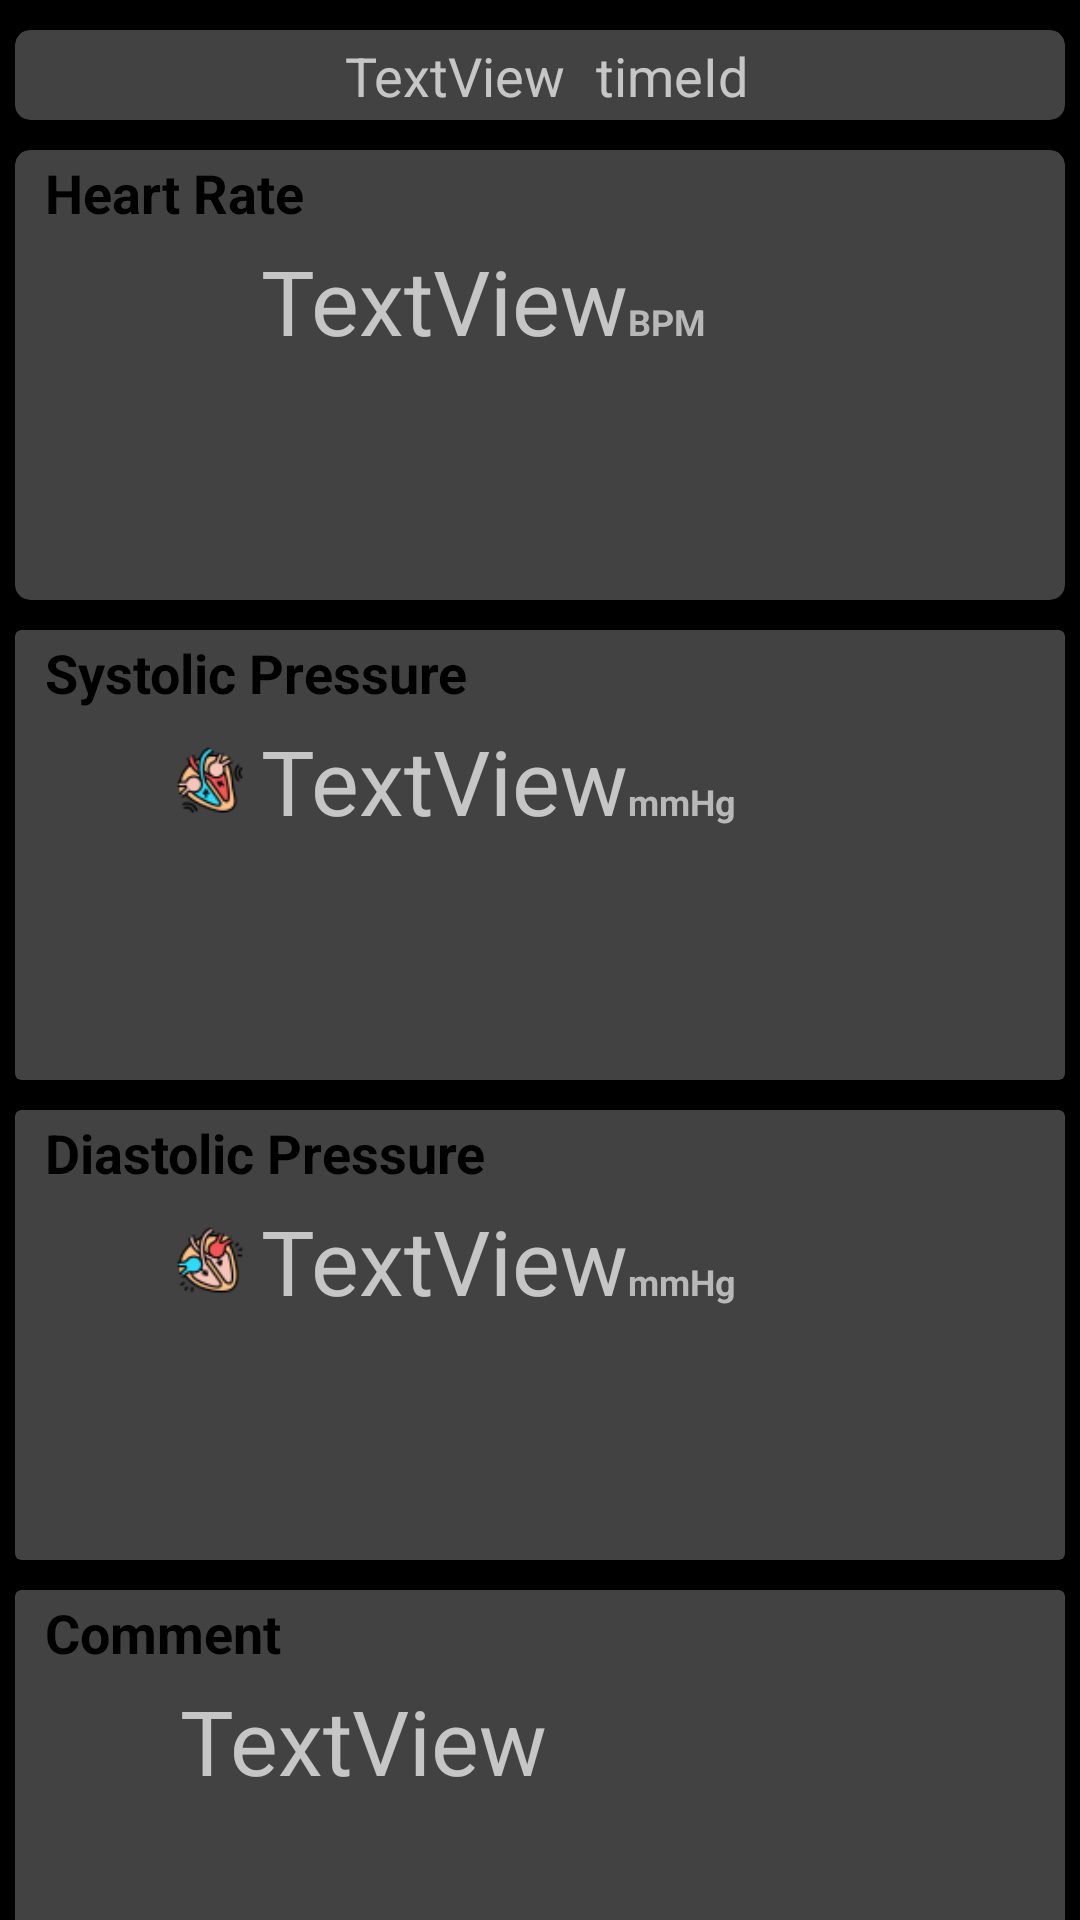

Where icons sit on this 1080w x 1920h app screen, as (x1, y1, x2, y2):
diastole: (177, 1228, 242, 1293)
systole: (177, 748, 242, 813)
